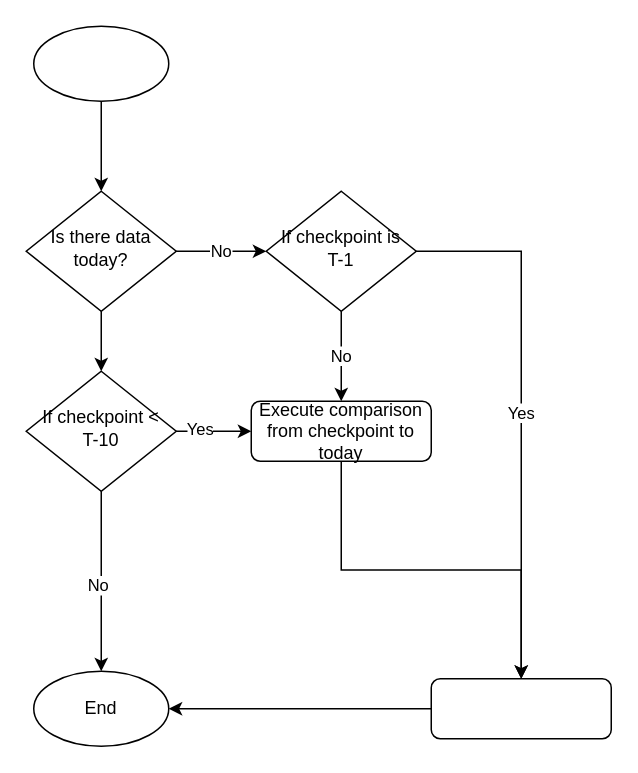
Image size: 638x773. Some labels were removed from this diagram. The centre of each missing label's shape, as x and y in pixels:
"Start" belongs at pixel 100 63.
"Update checkpoint as today" belongs at pixel 520 708.
